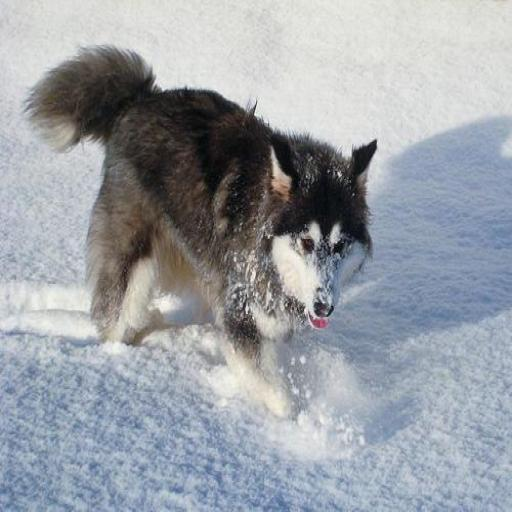dog_face: (267, 135, 380, 326)
